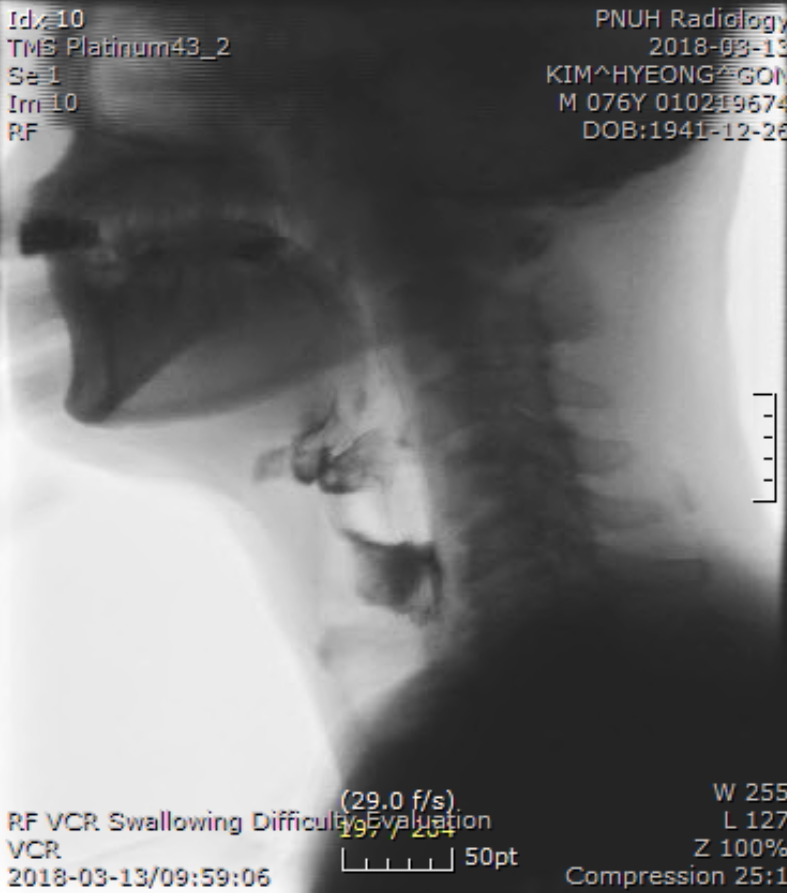dros: (347, 518, 425, 628)
food: (259, 374, 452, 647)
uros: (272, 404, 383, 506)
